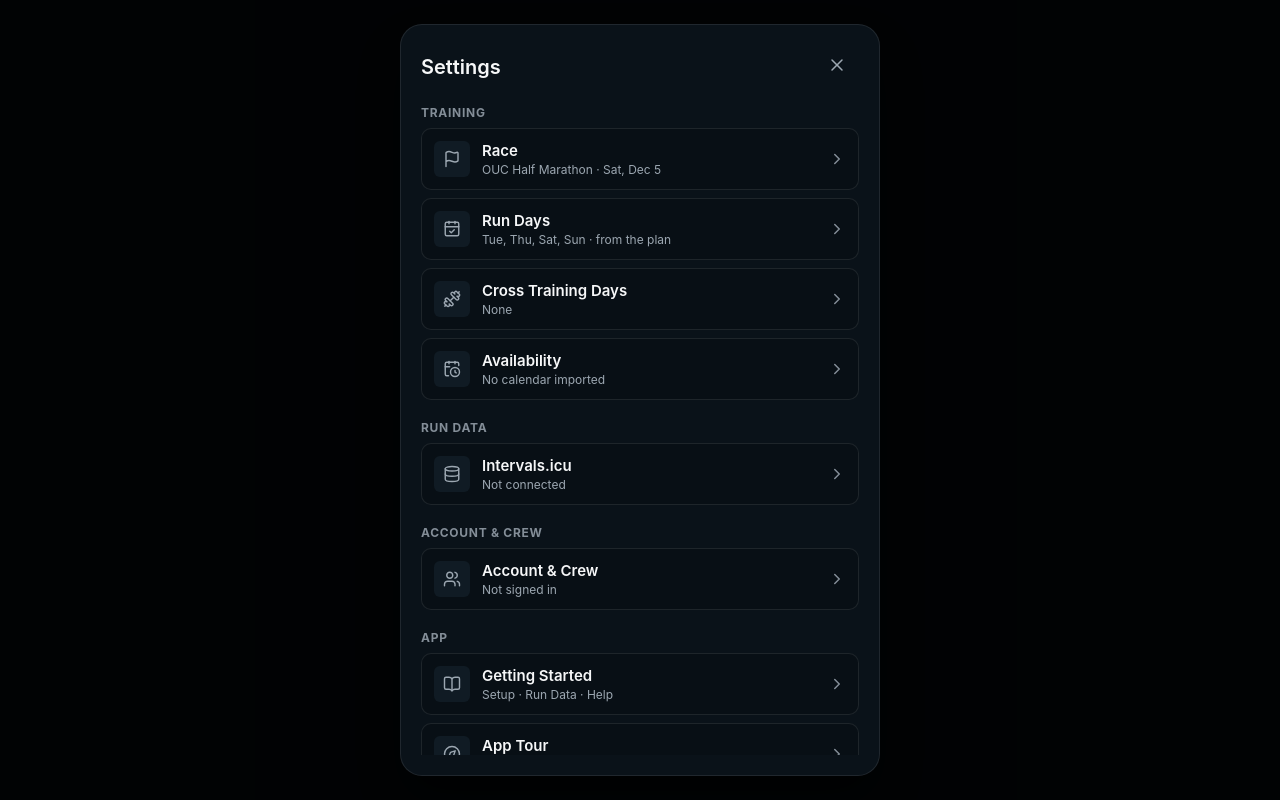
Test: choosing which days get Cross Training › opens on no day, with none set yet
Click the button "Cross Training Days None" at x=452, y=299, box [421,268,859,330]
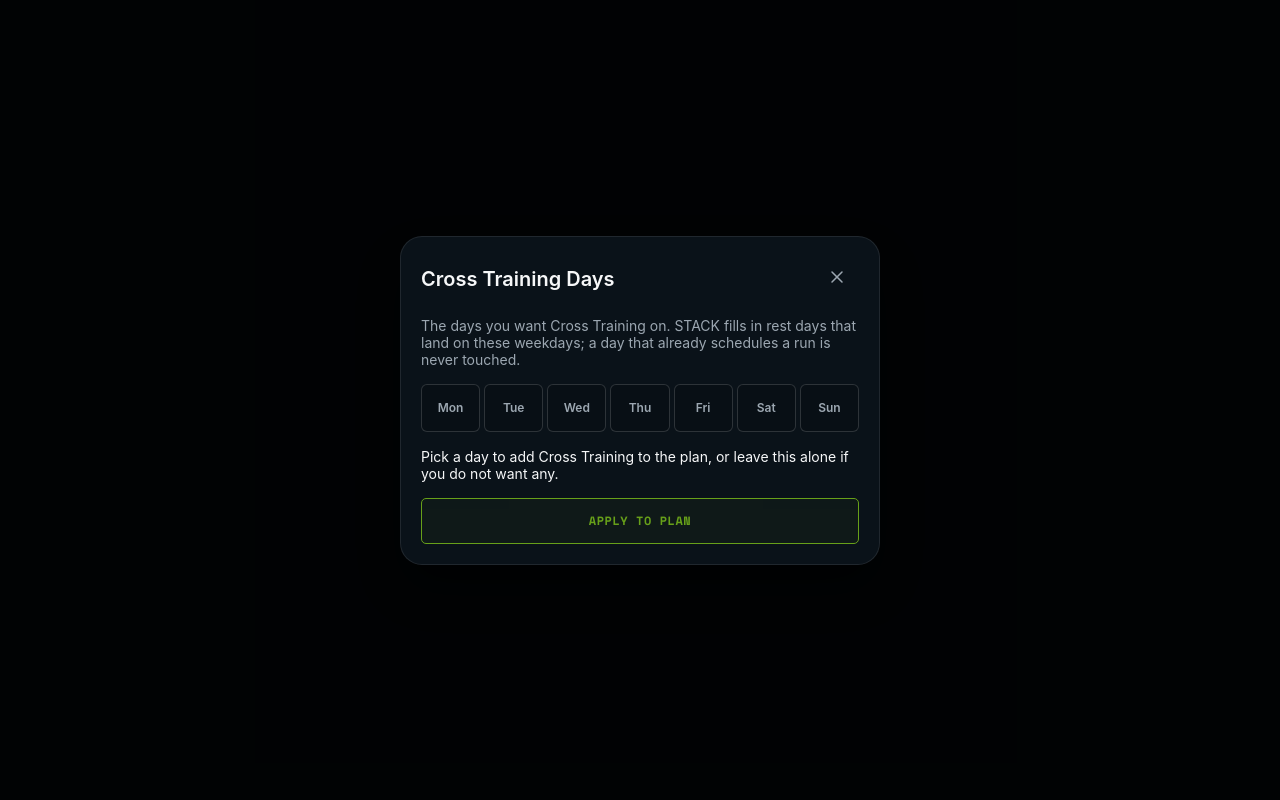
Expected: the text "Pick a day" is shown, [421,448,849,482]
Expected: the button "Apply to Plan" is disabled, [421,498,859,544]
